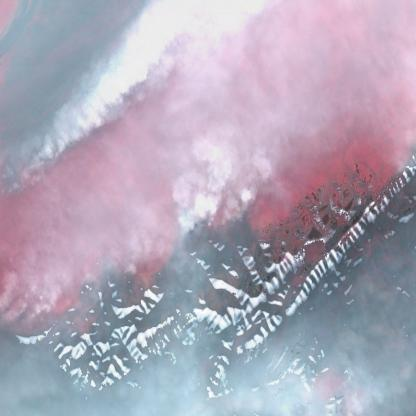fire: (0, 0, 149, 202), (170, 187, 254, 250), (10, 289, 72, 328)
